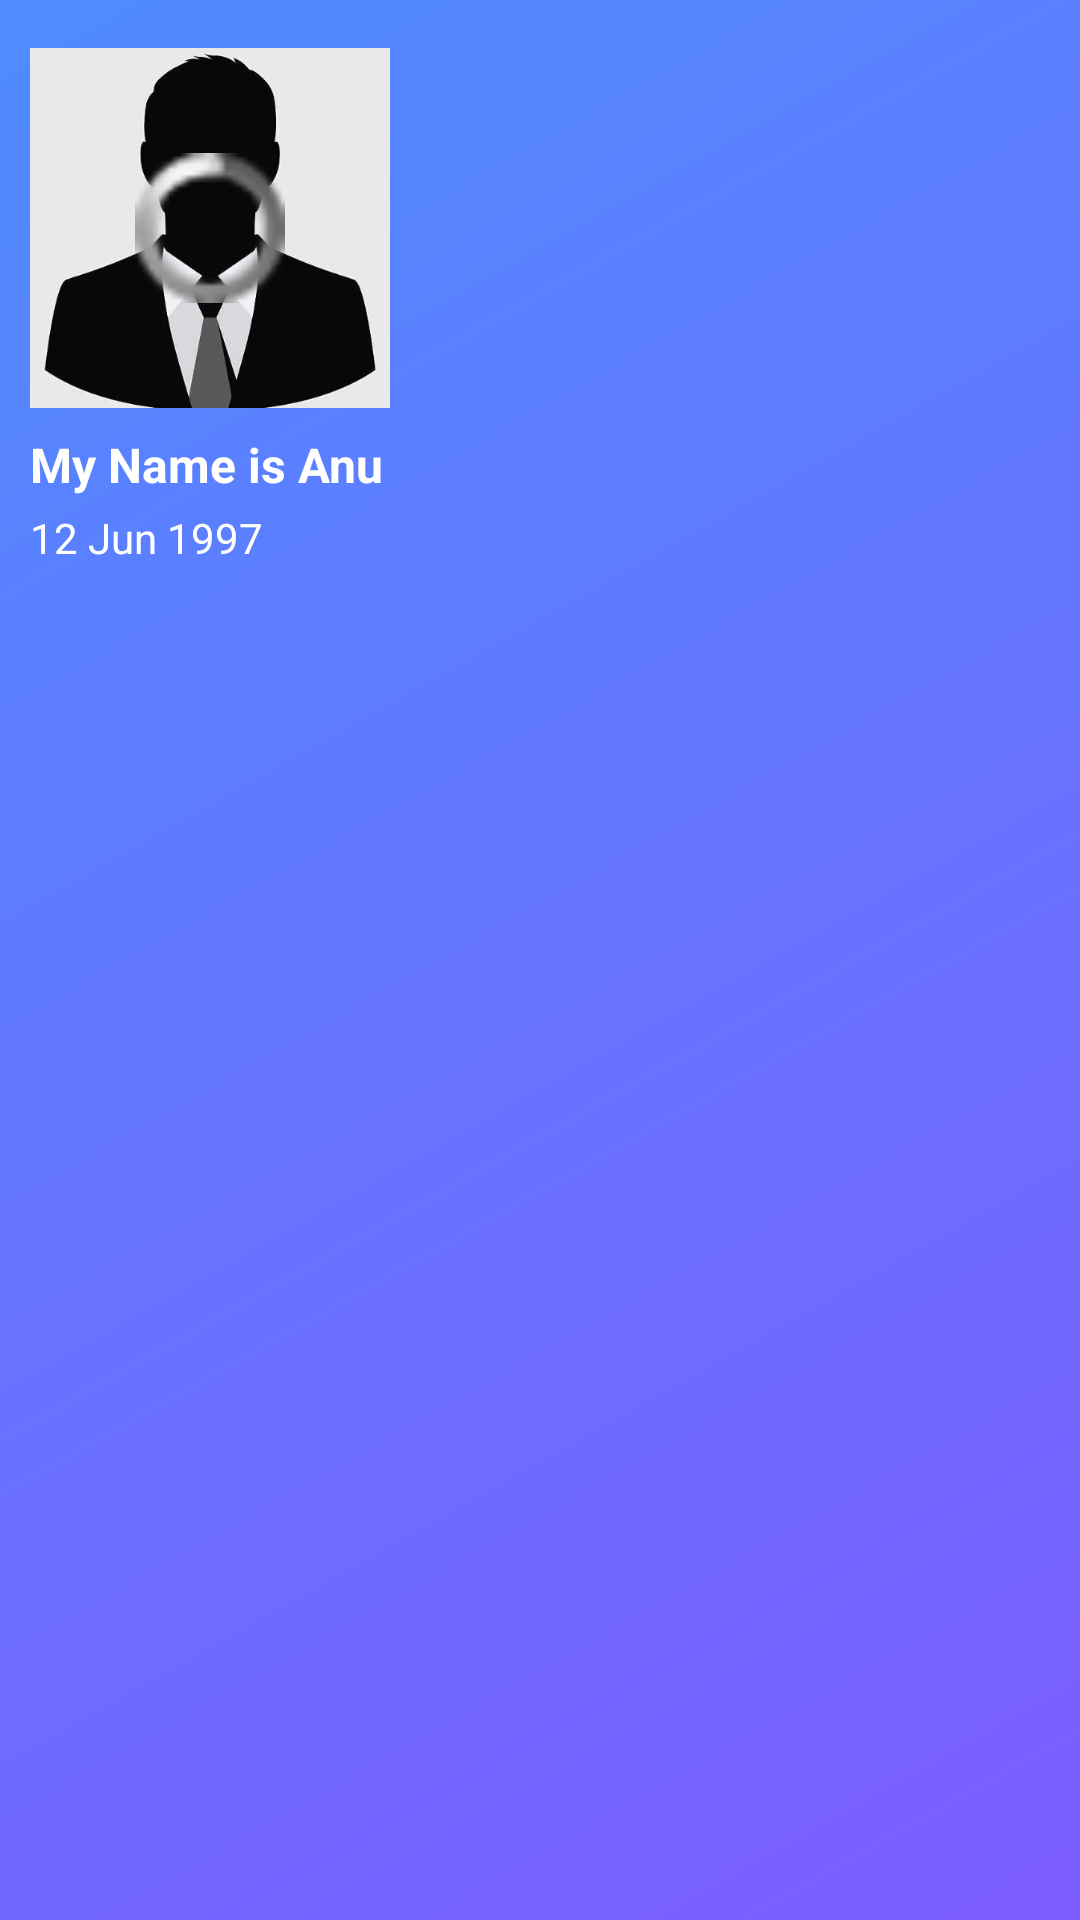

Named icons in this screenshot (1080×1920) and their centers, (x,y):
demo profile: (210,228)
